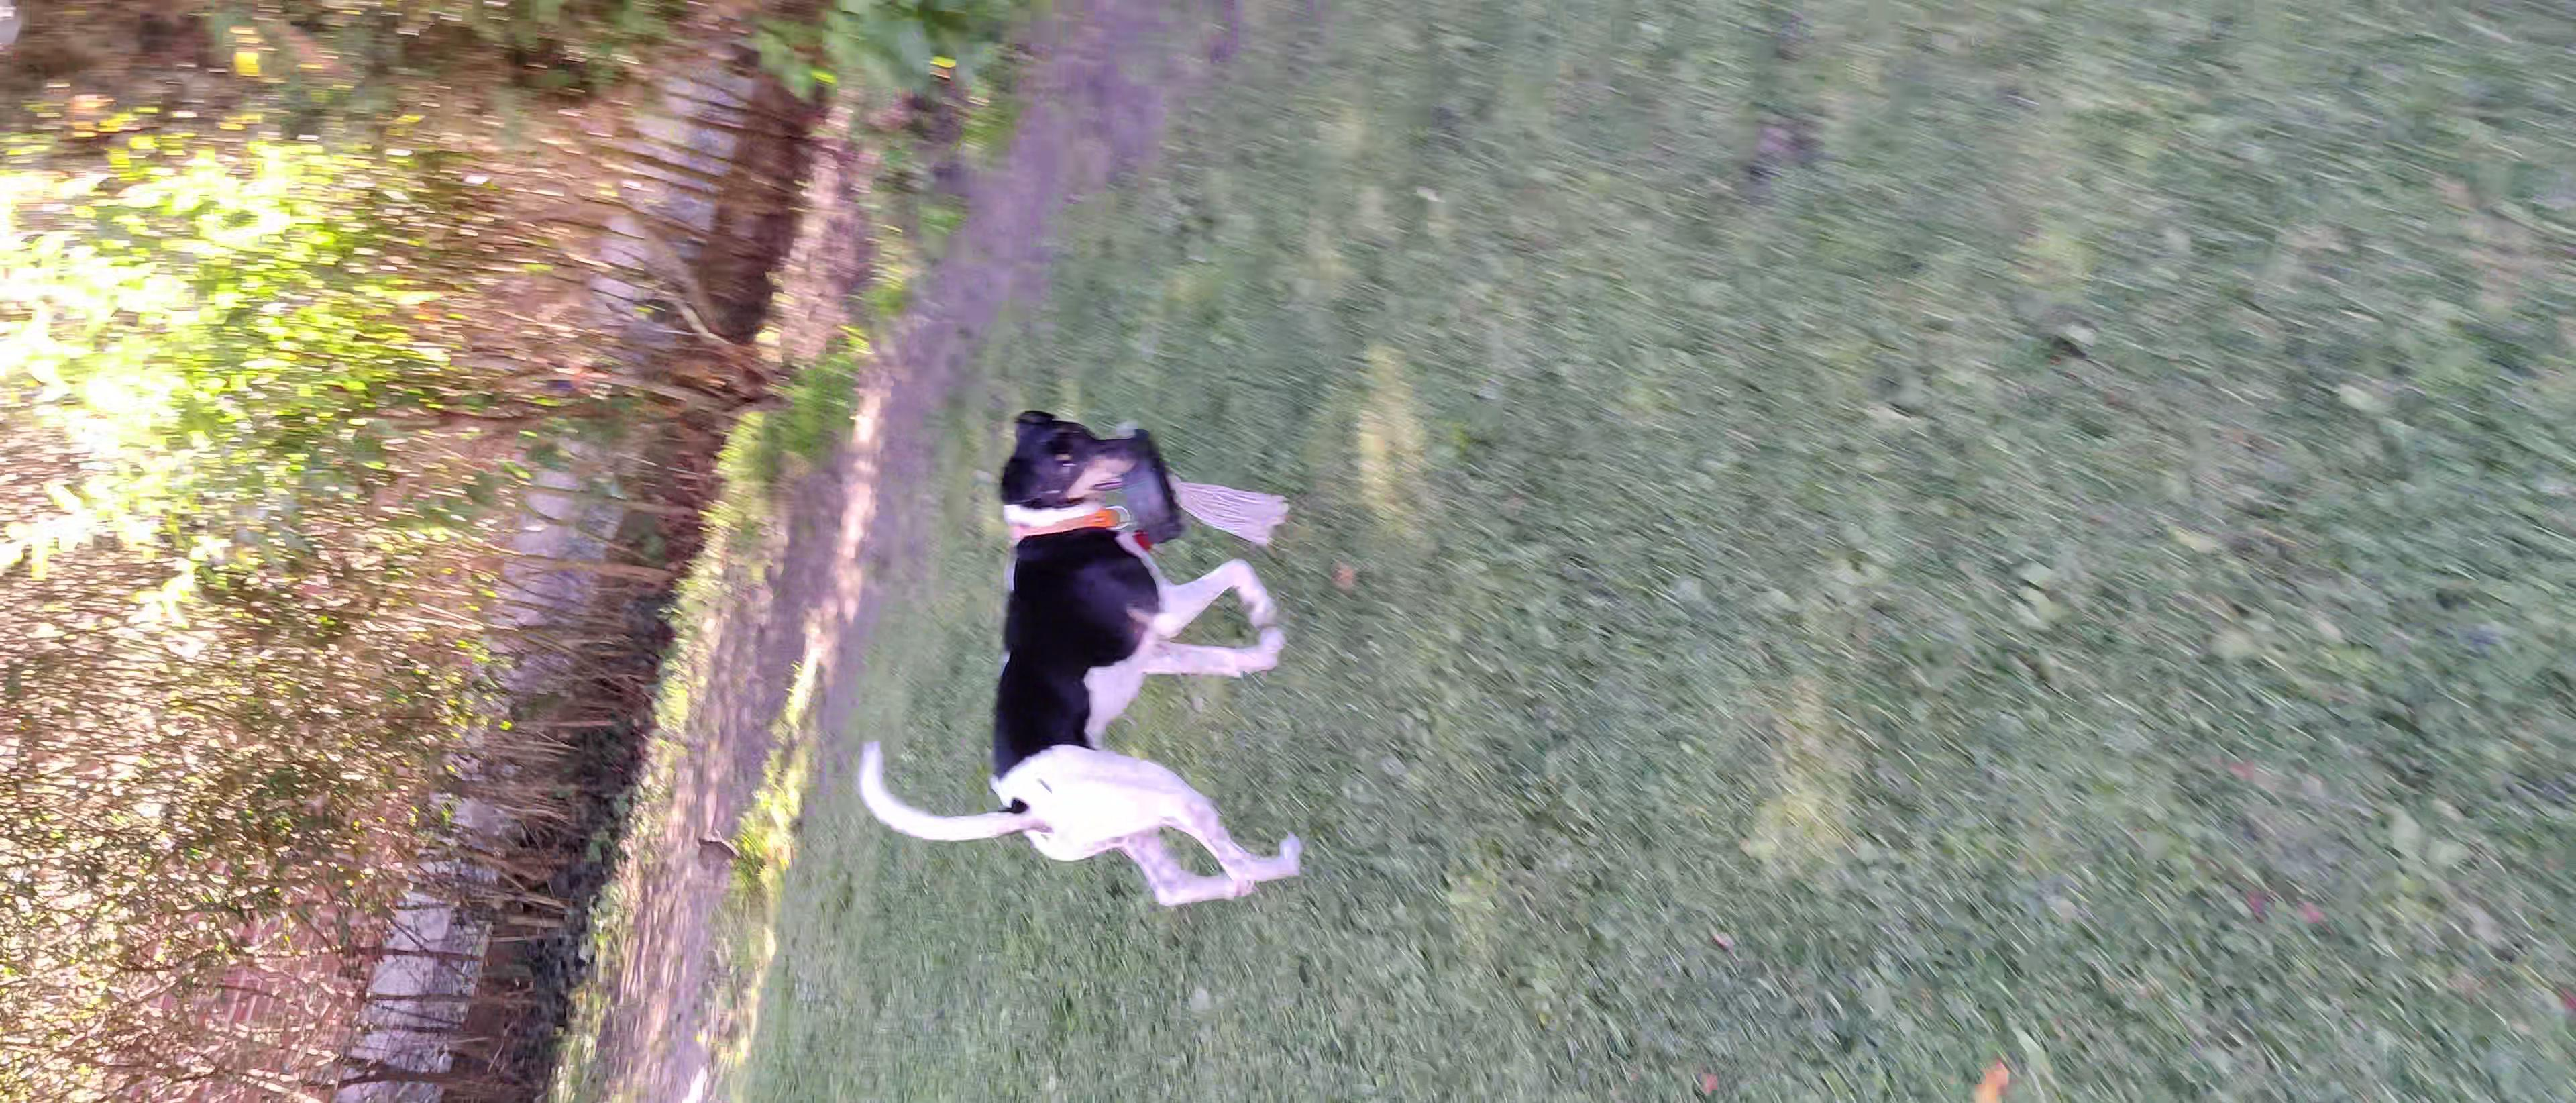Dog: (808, 390, 1349, 937)
